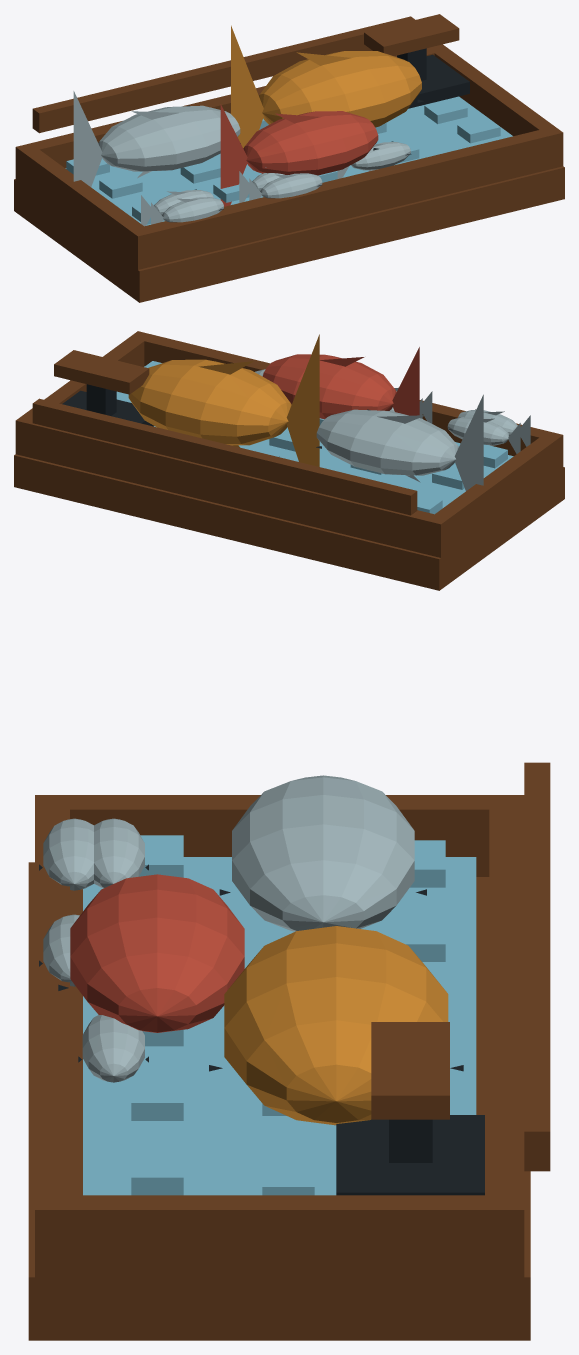
The model's file is seafood_display.obj.
The picture shows the model from 3 angles, top to bottom: view 1: azimuth 30°, elevation 25°; view 2: azimuth 150°, elevation 25°; view 3: azimuth 270°, elevation 25°; orthographic projection. The views are drawn at different scales.
Visible parts, largest first — view 1: GTA_GHIBLI_Seafood_Display; view 2: GTA_GHIBLI_Seafood_Display; view 3: GTA_GHIBLI_Seafood_Display.
Boxes of the visible parts, x1,y1,x2,y2 form: GTA_GHIBLI_Seafood_Display: (14, 14, 564, 302); GTA_GHIBLI_Seafood_Display: (14, 331, 564, 590); GTA_GHIBLI_Seafood_Display: (28, 762, 550, 1340).
Size of the model in its own units: 2.25 by 0.9622 by 1.19.
